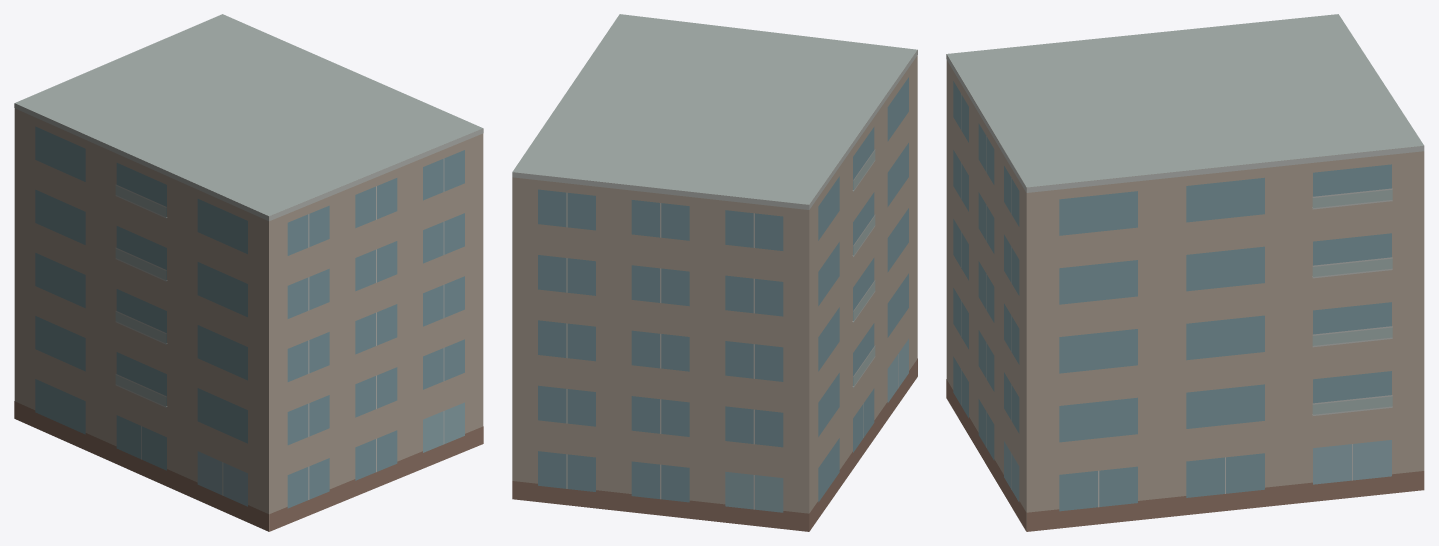
Rendered from survey-upis-32574895.glb.
3 views of the same model, side by side, from view 1: azimuth 30°, elevation 25°; view 2: azimuth 150°, elevation 25°; view 3: azimuth 270°, elevation 25° (orthographic). The views are drawn at different scales.
Parts seen in each view (by area): view 1: survey-upis-32574895.tmp; view 2: survey-upis-32574895.tmp; view 3: survey-upis-32574895.tmp.
Boxes of the visible parts, left/top/right/bottom form: survey-upis-32574895.tmp: left=14, top=14, right=483, bottom=531; survey-upis-32574895.tmp: left=512, top=14, right=917, bottom=531; survey-upis-32574895.tmp: left=946, top=14, right=1424, bottom=531.
Bounding box in the file's own units: 16.54 × 15.3 × 19.25.
